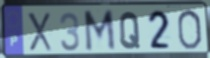2: (146, 8, 174, 52)
3: (59, 11, 81, 52)
M: (82, 8, 117, 54)
O: (176, 8, 203, 51)
Q: (118, 11, 142, 51)
X: (25, 11, 54, 53)
